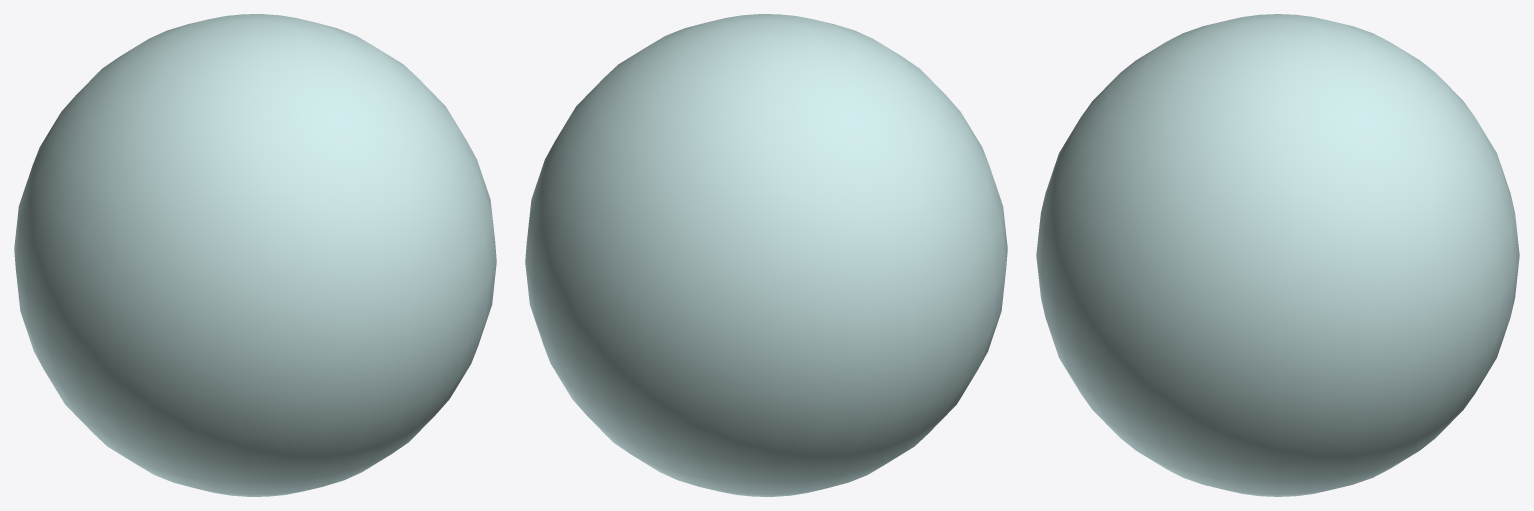
Rendered from bonus_10.fbx.
3 views of the same model, side by side, from view 1: azimuth 30°, elevation 25°; view 2: azimuth 150°, elevation 25°; view 3: azimuth 270°, elevation 25° (orthographic).
Parts seen in each view (by area): view 1: bonus_10; view 2: bonus_10; view 3: bonus_10.
Part boxes in pixels (x1,y1,x2,y2): bonus_10: [14, 14, 496, 496]; bonus_10: [525, 14, 1007, 496]; bonus_10: [1036, 14, 1519, 496].
Size of the model in its own units: 200 by 200 by 200.
